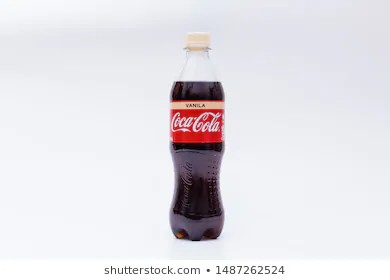coke-diet/zero-bottle-700ml: (166, 29, 227, 240)
